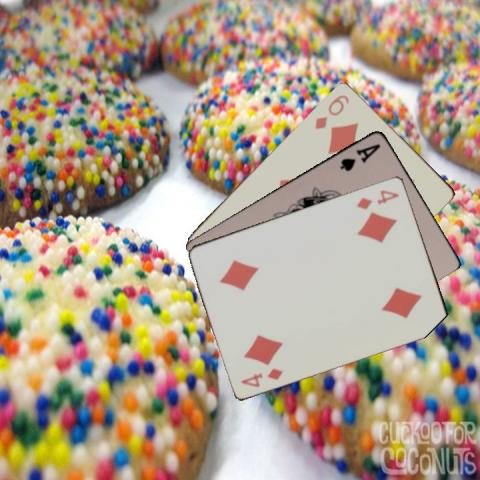4d: (238, 364, 285, 389), (353, 186, 401, 210)
6d: (311, 91, 351, 131)
As: (337, 140, 382, 173)
